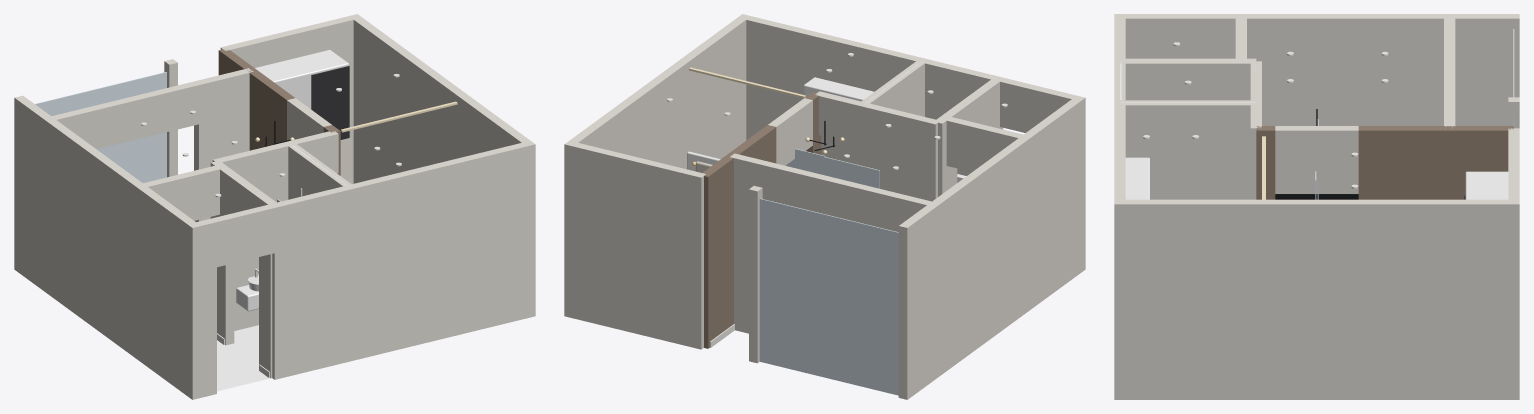
Rendered from jp_north_aviva_blender_export.glb.
The picture shows the model from 3 angles, left to right: view 1: azimuth 30°, elevation 25°; view 2: azimuth 150°, elevation 25°; view 3: azimuth 270°, elevation 25°; orthographic projection. The views are drawn at different scales.
Parts seen in each view (by area): view 1: JP_North_Aviva_Residence_Bake; view 2: JP_North_Aviva_Residence_Bake; view 3: JP_North_Aviva_Residence_Bake.
Boxes of the visible parts, box(x1,y1,x2,y2) form: JP_North_Aviva_Residence_Bake: box(14, 14, 535, 399); JP_North_Aviva_Residence_Bake: box(564, 14, 1085, 399); JP_North_Aviva_Residence_Bake: box(1114, 14, 1519, 399).
Bounding box in the file's own units: 5.95 × 3.3 × 5.35.
